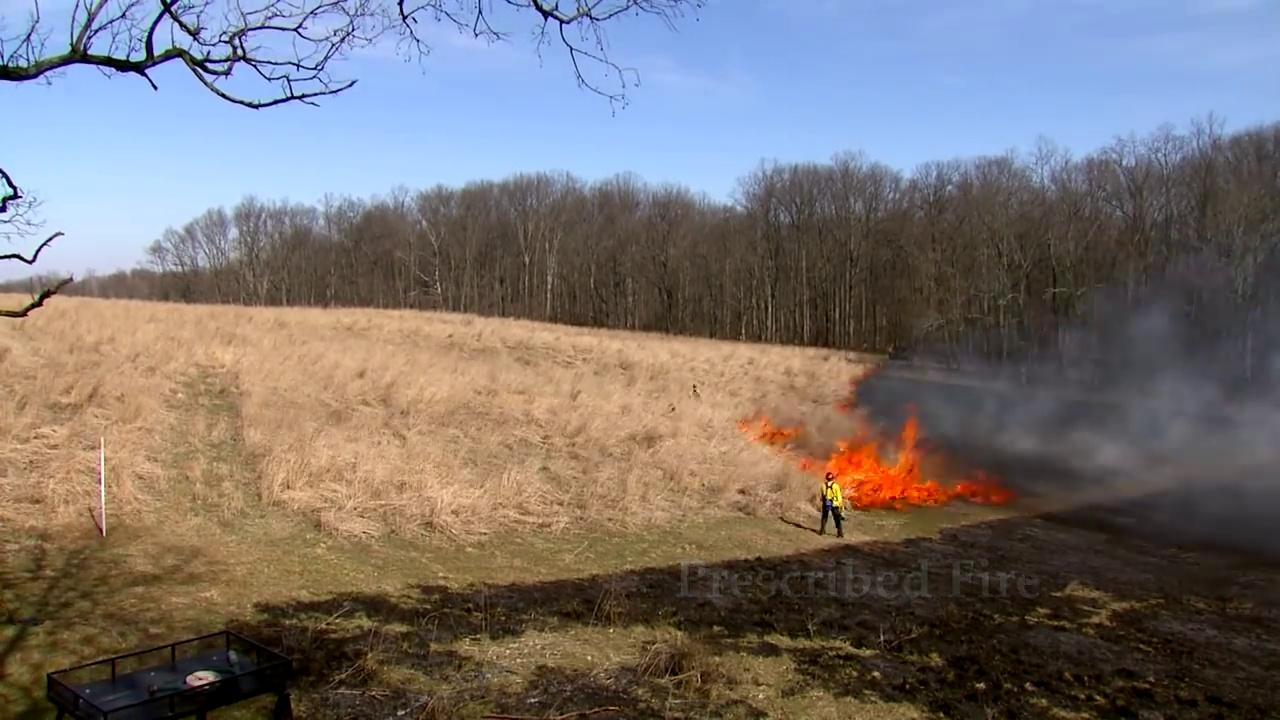Fire: (812, 414, 1007, 507), (737, 408, 804, 450)
